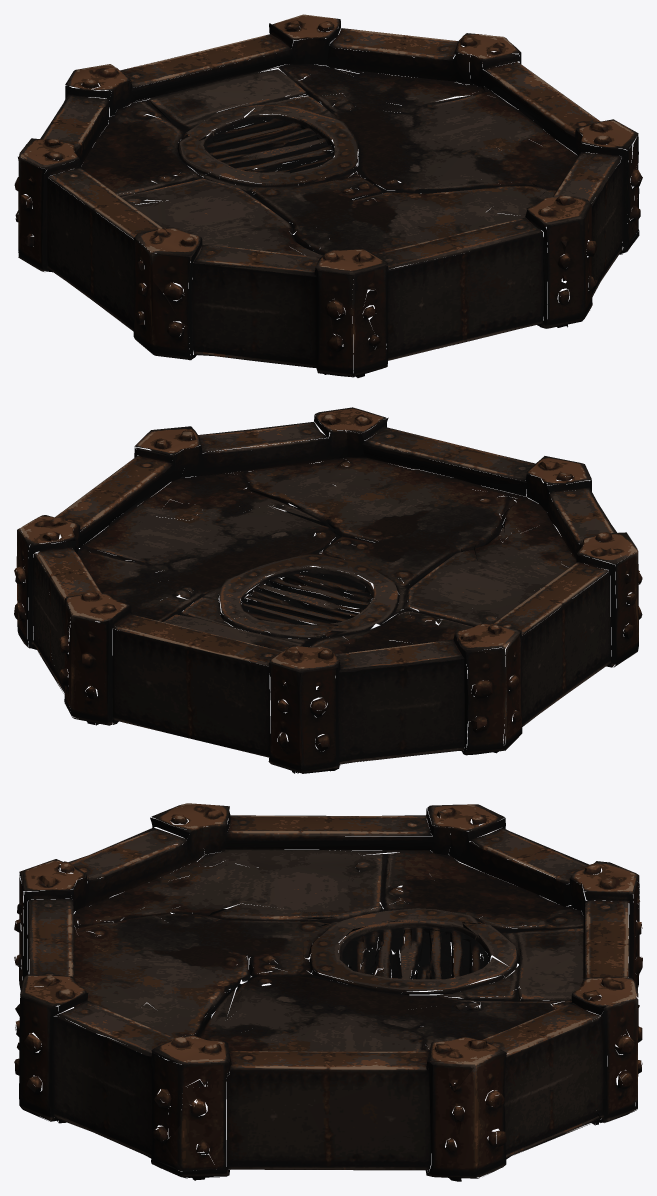
Rendered from tr_floor_3.glb.
3 views of the same model, one above another, from view 1: azimuth 30°, elevation 25°; view 2: azimuth 150°, elevation 25°; view 3: azimuth 270°, elevation 25° (orthographic). The views are drawn at different scales.
Visible parts, largest first — view 1: tr_floor_3; view 2: tr_floor_3; view 3: tr_floor_3.
Boxes of the visible parts, x1,y1,x2,y2 form: tr_floor_3: [14, 14, 642, 377]; tr_floor_3: [14, 407, 642, 773]; tr_floor_3: [14, 803, 642, 1181].
Size of the model in its own units: 1.5 by 0.345 by 1.5.
1 material, 1 textured.
